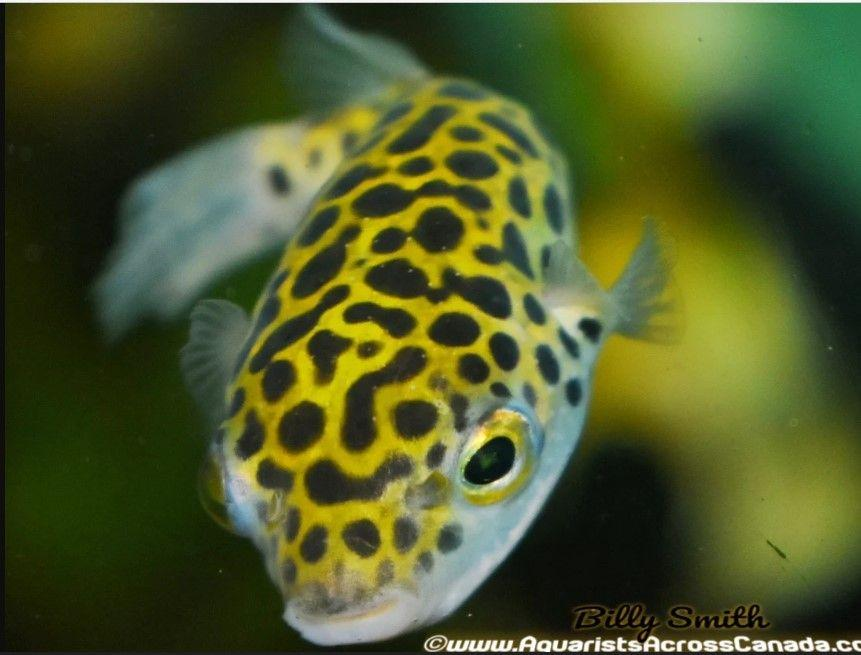Green Spotted Puffer: (97, 5, 685, 655)
